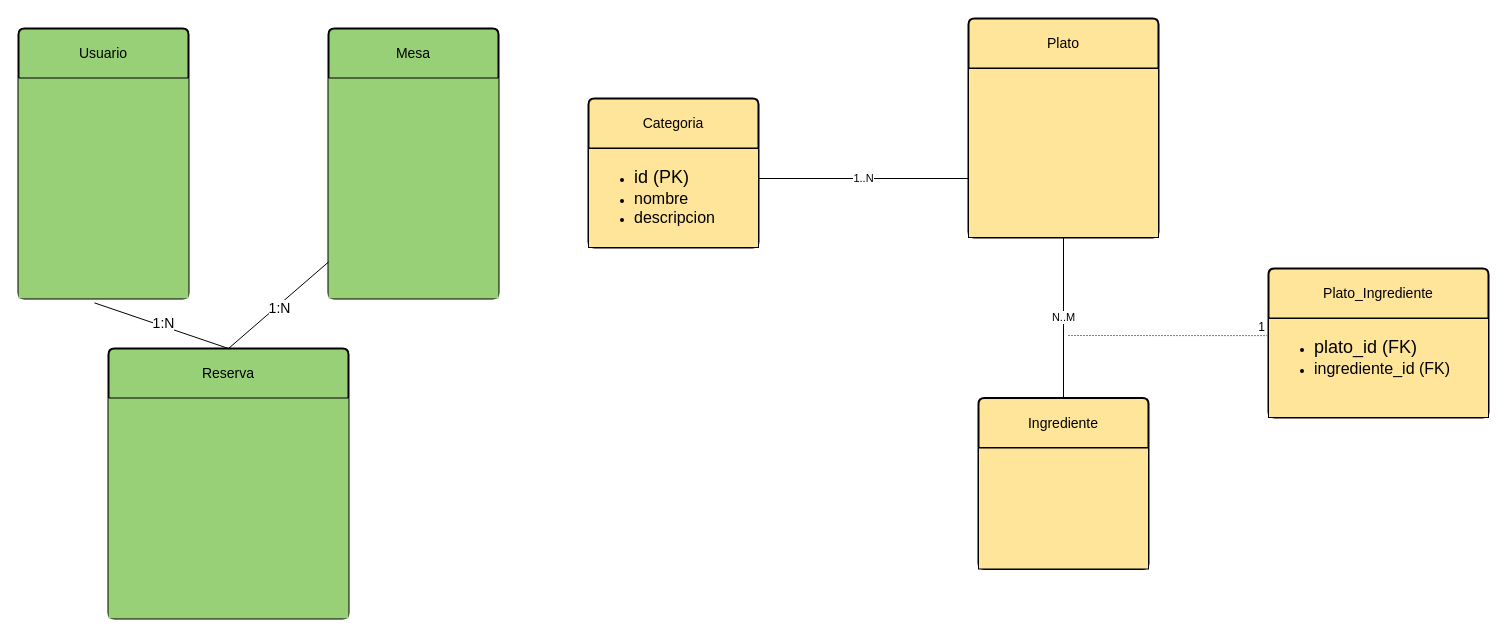
Image size: 1506x636. Some labels were removed from this diagram. Each missing label, with the centre of its shape:
id (PK) fecha hora numero_personas estado usuario_id (FK) mesa_id (FK): (x=228, y=508)
id (PK) nombre descripcion precio imagen disponible categoria_id (FK): (x=1063, y=153)
id (PK) nombre email password telefono rol fecha_registro: (x=103, y=188)
id (PK) nombre stock precio_extra: (x=1063, y=508)
id (PK) numero capacidad ubicacion activa: (x=413, y=188)
